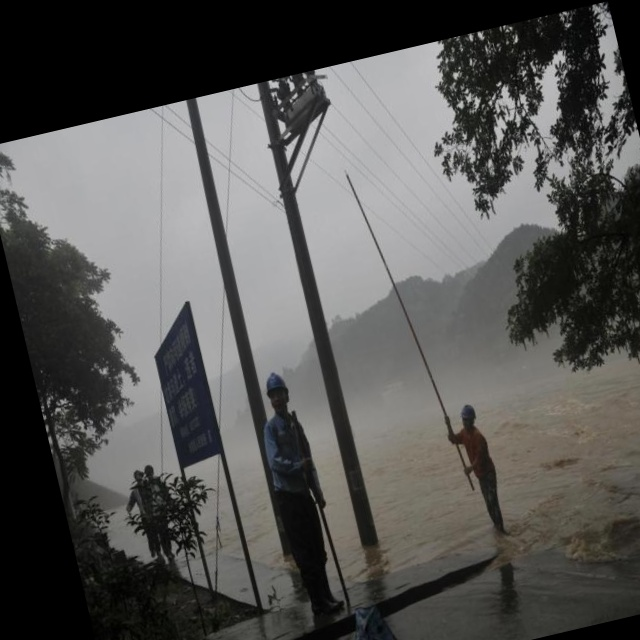Con_Casco: (261, 368, 296, 417), (456, 401, 477, 431)
